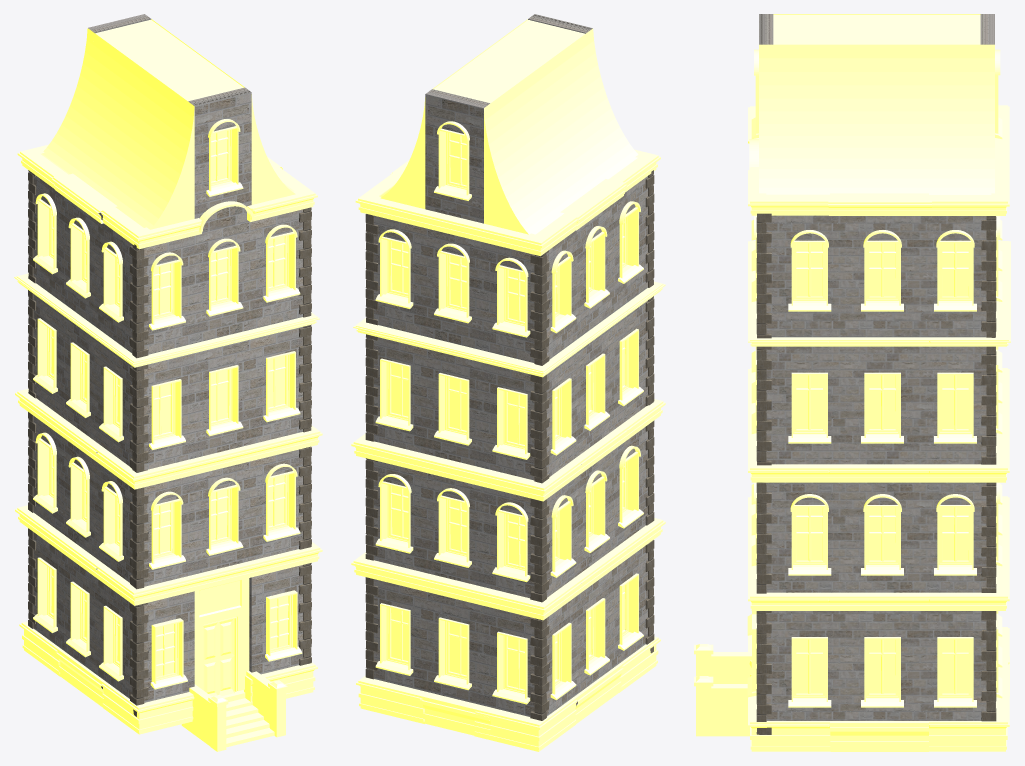
File: Building 01 Full Blender optimized.fbx
3 views of the same model, side by side, from view 1: azimuth 30°, elevation 25°; view 2: azimuth 150°, elevation 25°; view 3: azimuth 270°, elevation 25° (orthographic). The views are drawn at different scales.
Visible parts, largest first — view 1: LOD 00; view 2: LOD 00; view 3: LOD 00.
Boxes of the visible parts, box(x1,y1,x2,y2) form: LOD 00: box(14, 14, 322, 751); LOD 00: box(351, 14, 665, 751); LOD 00: box(694, 14, 1010, 751).
Size of what is drawn, in the model's own units: 662 by 2086 by 870.
Materials: 7 (2 with a texture image).
